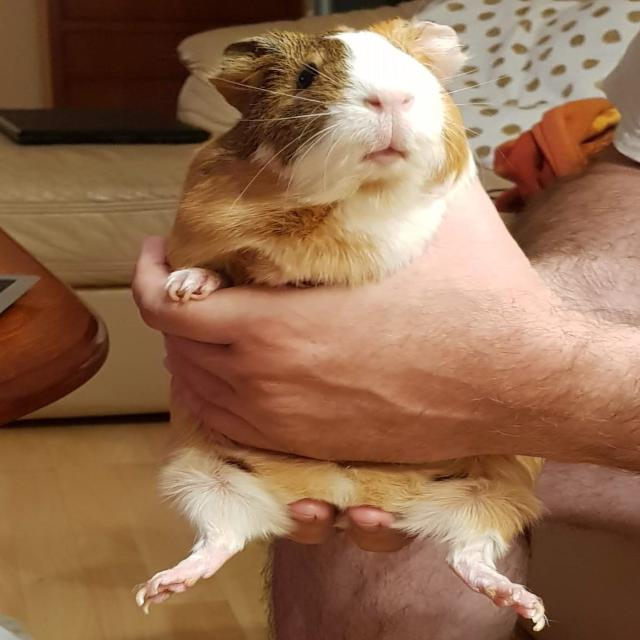guinea pig: (132, 16, 550, 640)
